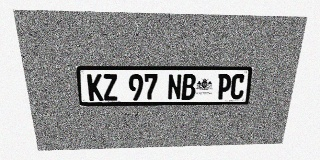7: (143, 74, 158, 100)
9: (128, 74, 143, 100)
B: (181, 74, 196, 100)
C: (230, 74, 246, 99)
K: (87, 74, 103, 101)
N: (167, 74, 182, 100)
P: (216, 74, 232, 99)
Z: (102, 74, 118, 101)
